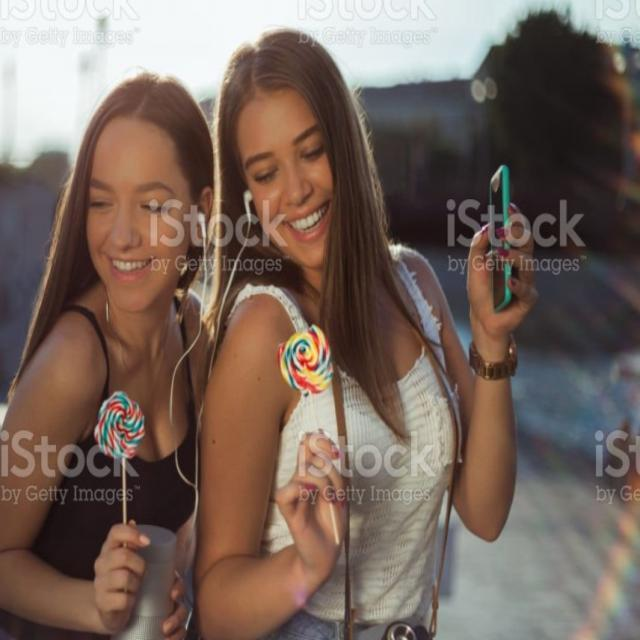Watch: (465, 332, 522, 384)
